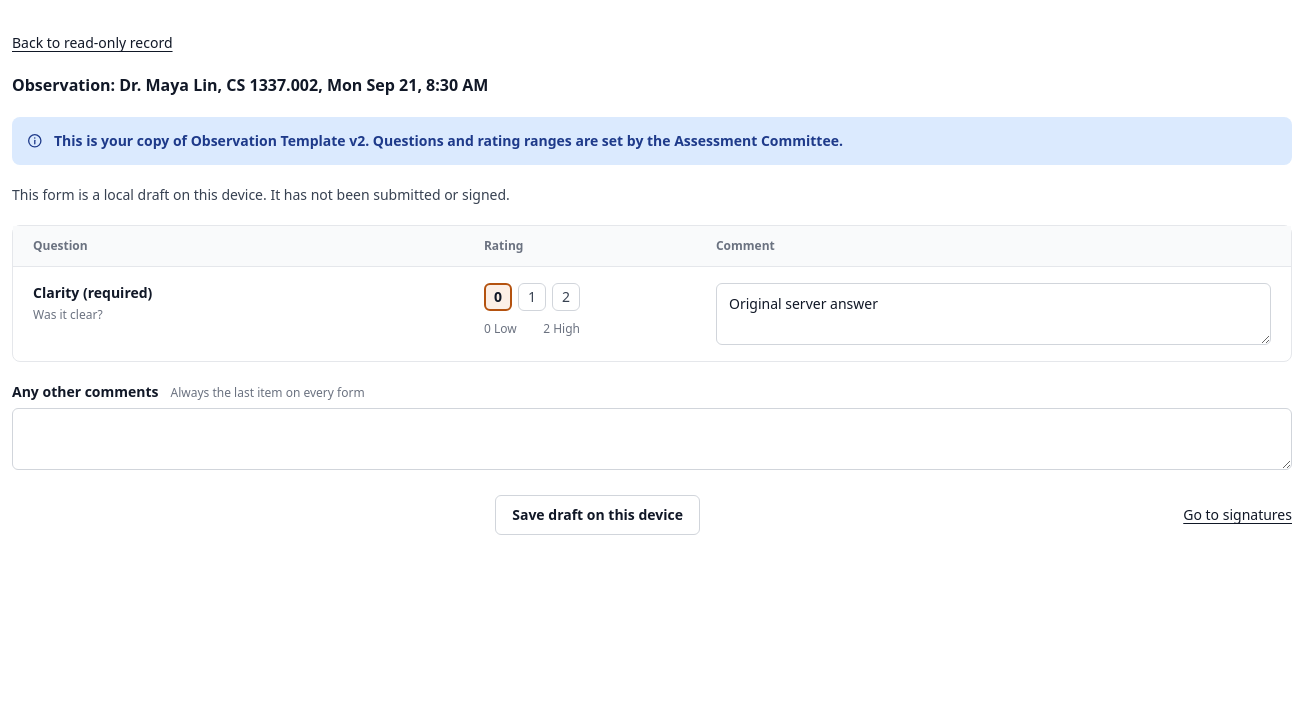
Test case: keeps draft provenance after a mounted refresh followed by save and requires review on signing
This screenshot has width=1304, height=719.
Replace the text in the text box named "Comment on Clarity" with "My retained local edit" at (994, 314), box [716,283,1271,345]
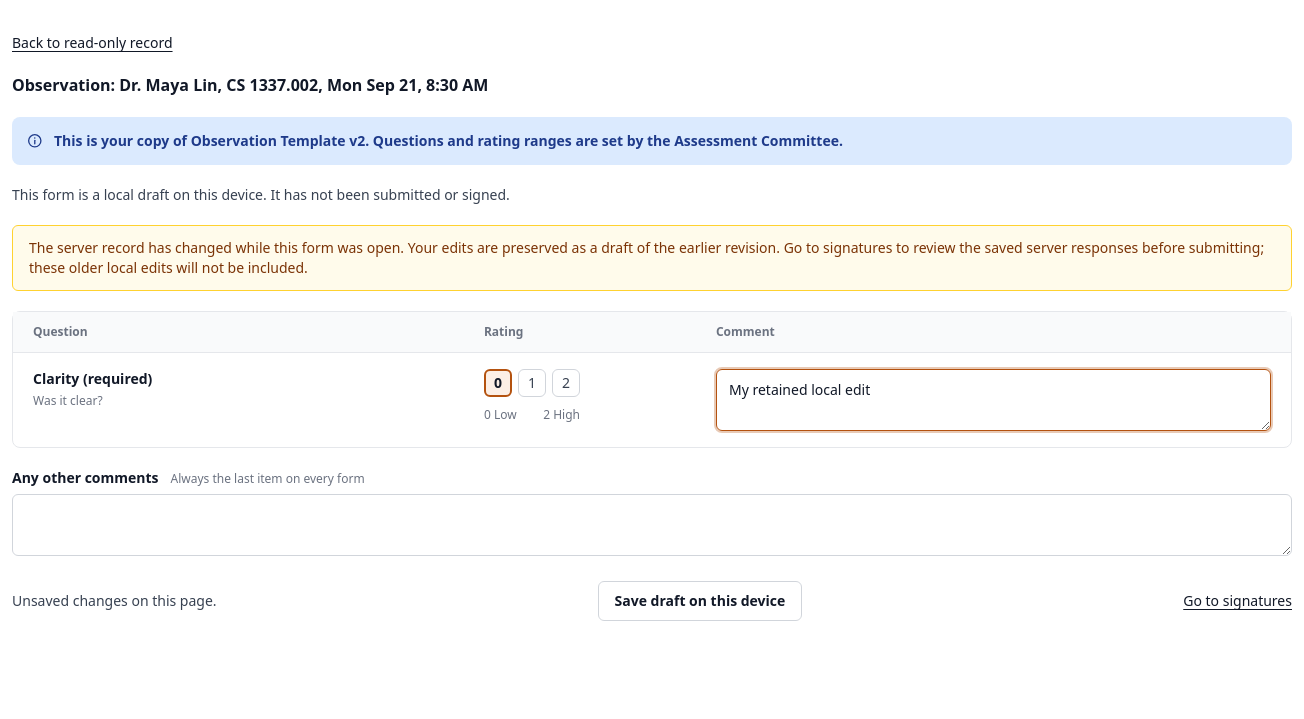
Click the button "Save draft on this device".
click(700, 601)  # box [598,581,802,621]
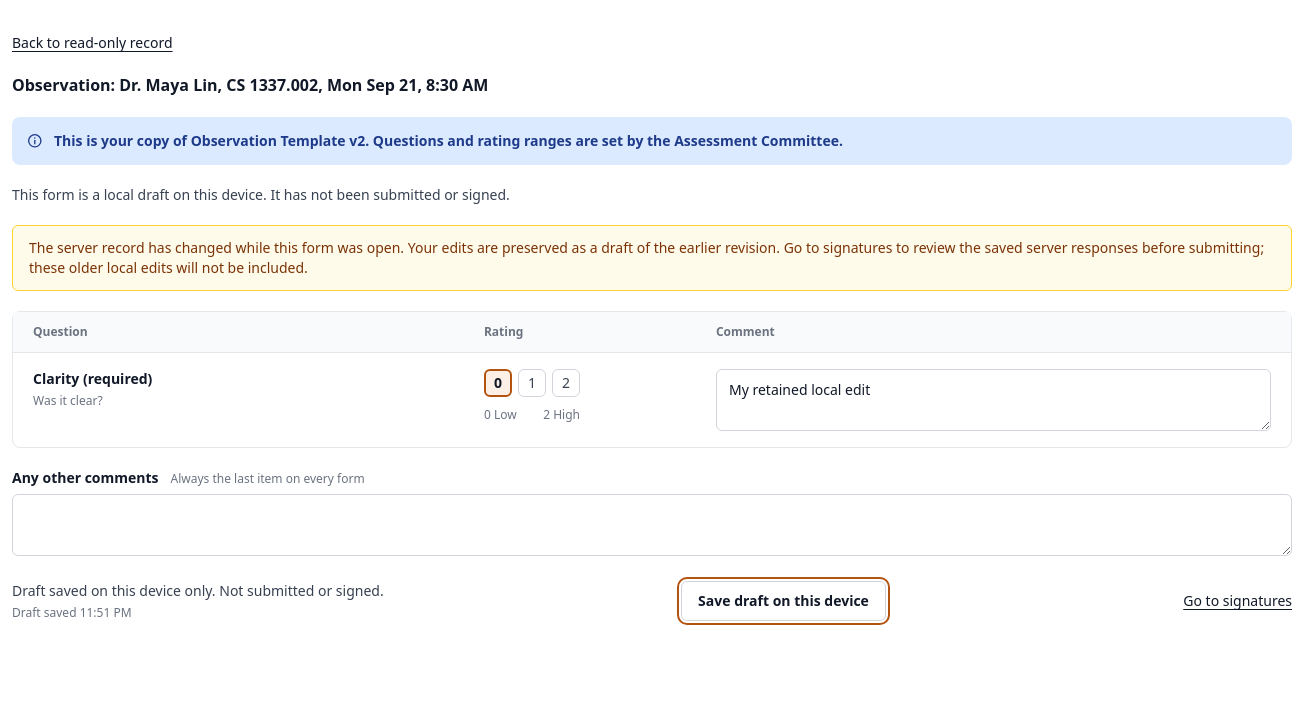
expect the 2nd message shows "server record has changed": met, box [29,238,1264,277]
Click the link "Go to signatures".
click(1238, 601)  # box [1183,591,1292,611]
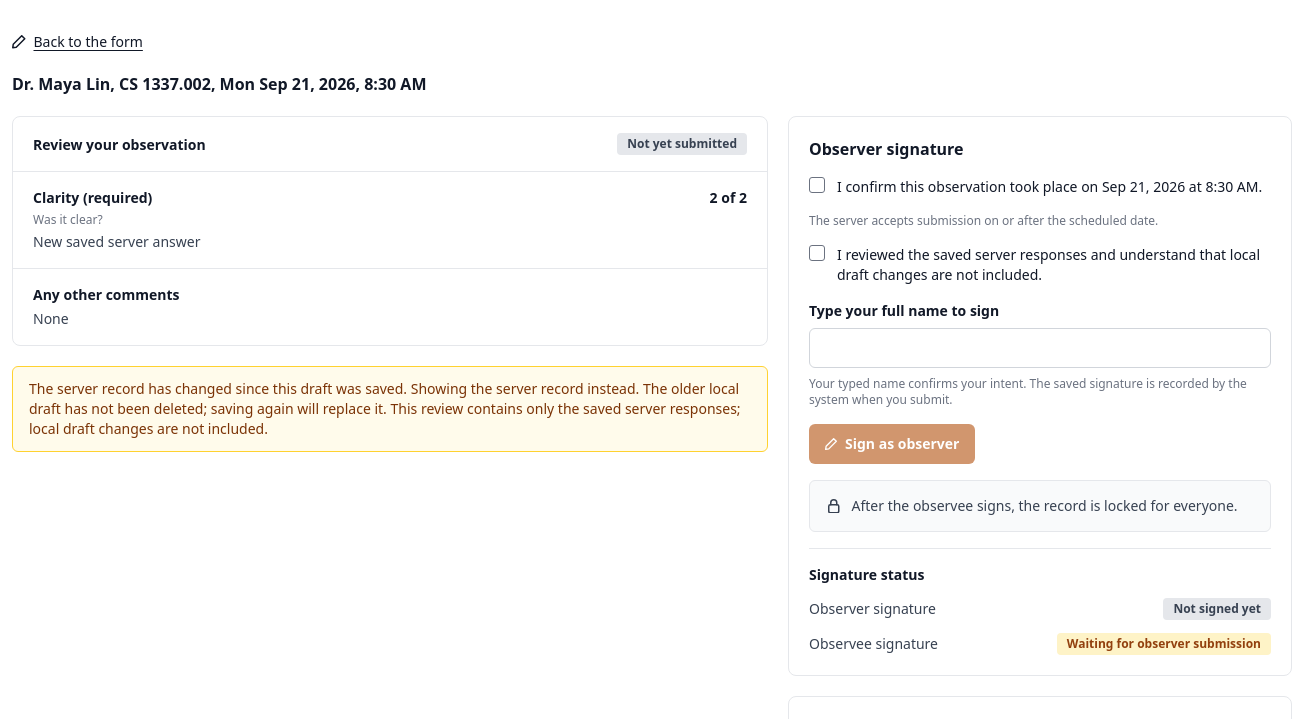
expect the text "My retained local edit" is not shown: met
expect the text "New saved server answer" is shown: met, box [33,232,200,251]
Click the checkbox labelled "I confirm this observation took place".
click(817, 185)  # box [809,177,825,193]
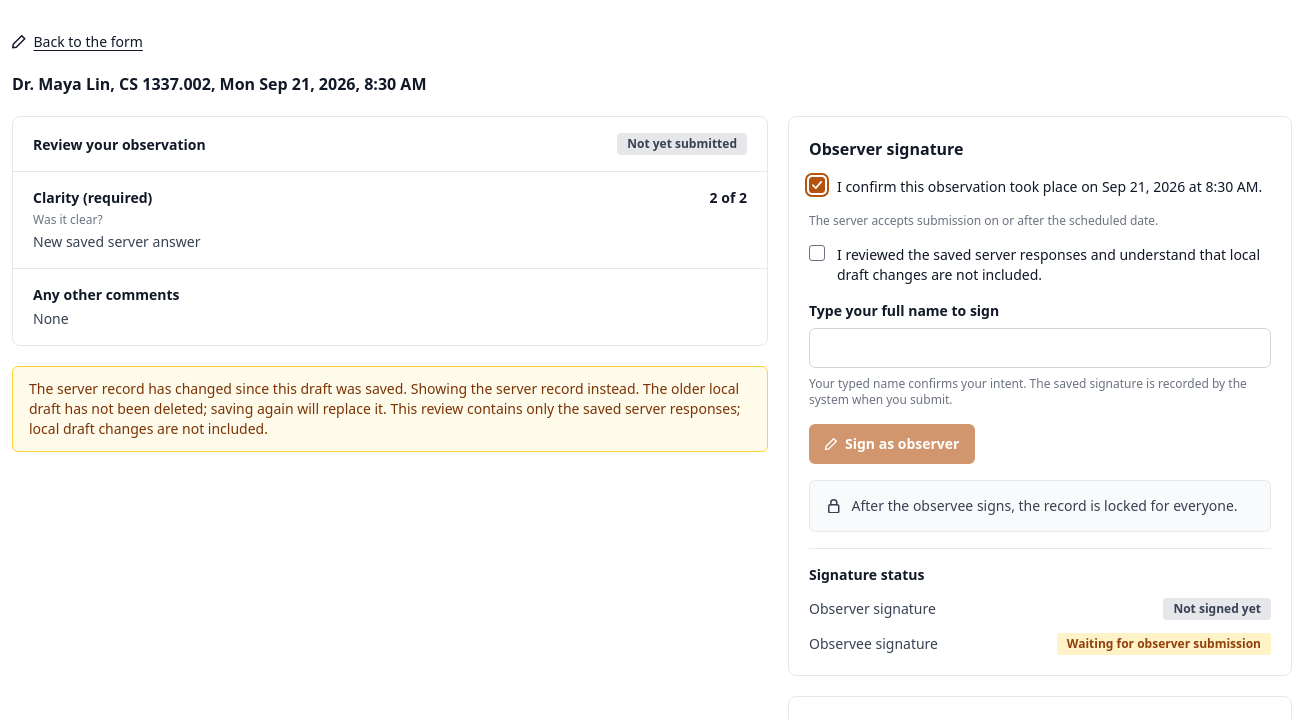
Type "Elena Ruiz" into the field labelled "Type your full name to sign".
click(1040, 348); type("Elena Ruiz")  # box [809,328,1271,368]
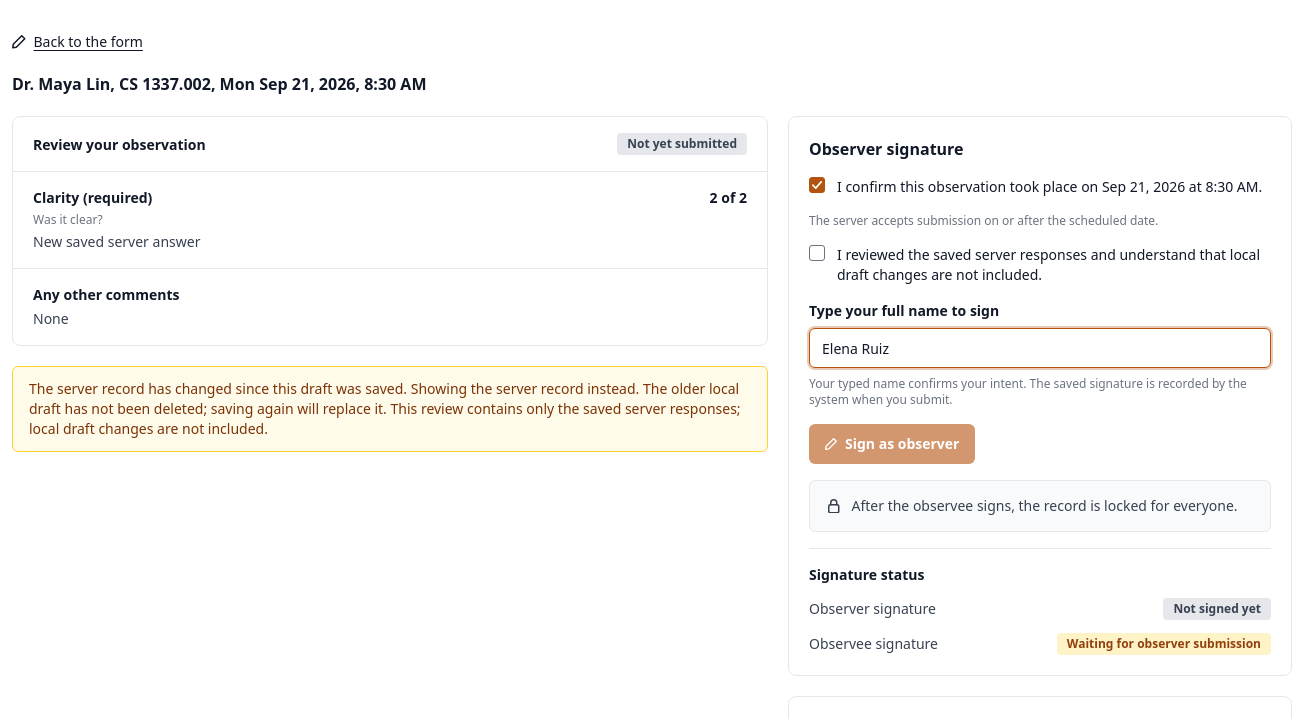
expect the button "Sign as observer" is disabled: met, box [809,424,976,464]
Click the checkbox labelled "I reviewed the saved server responses".
click(817, 253)  # box [809,245,825,261]
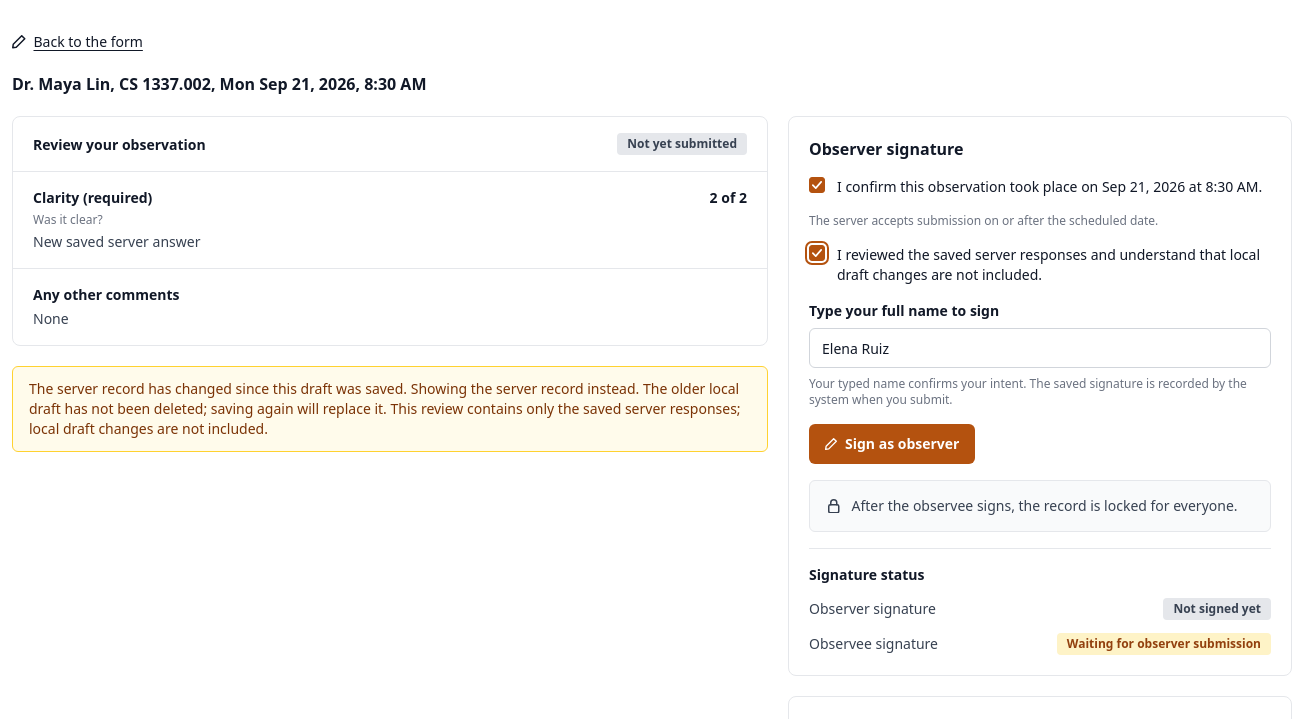
expect the button "Sign as observer" is enabled: met, box [809,424,976,464]
